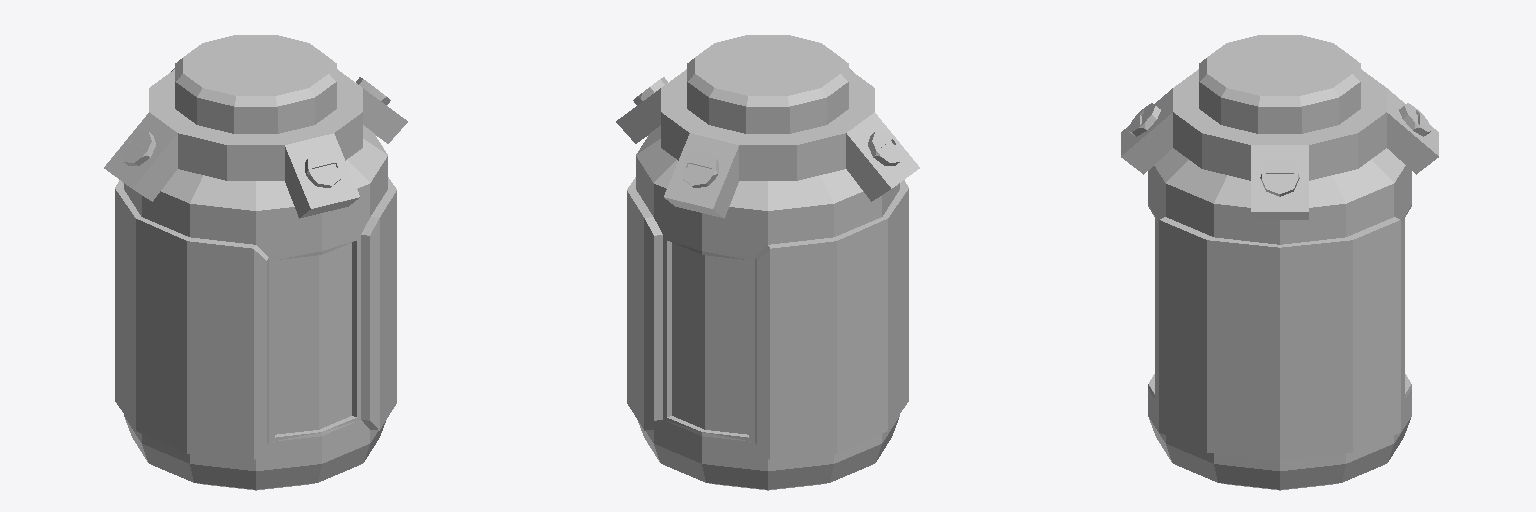
The model's file is Pickup_Tank_Cylinder_007.obj.
3 views of the same model, side by side, from view 1: azimuth 30°, elevation 25°; view 2: azimuth 150°, elevation 25°; view 3: azimuth 270°, elevation 25° (orthographic).
Visible parts, largest first — view 1: Pickup_Tank_Cylinder.007; view 2: Pickup_Tank_Cylinder.007; view 3: Pickup_Tank_Cylinder.007.
Boxes of the visible parts, x1=… form: Pickup_Tank_Cylinder.007: x1=104, y1=35, x2=407, y2=490; Pickup_Tank_Cylinder.007: x1=616, y1=35, x2=919, y2=490; Pickup_Tank_Cylinder.007: x1=1121, y1=35, x2=1438, y2=490.
Bounding box in the file's own units: 0.2007 × 0.2647 × 0.2007.